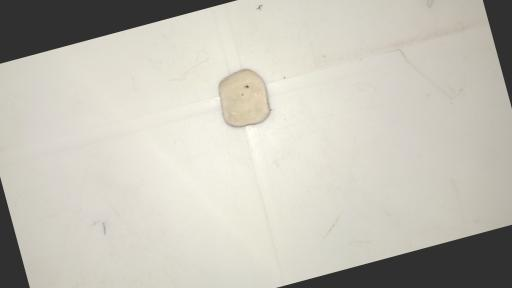Eraser: (212, 62, 276, 132)
